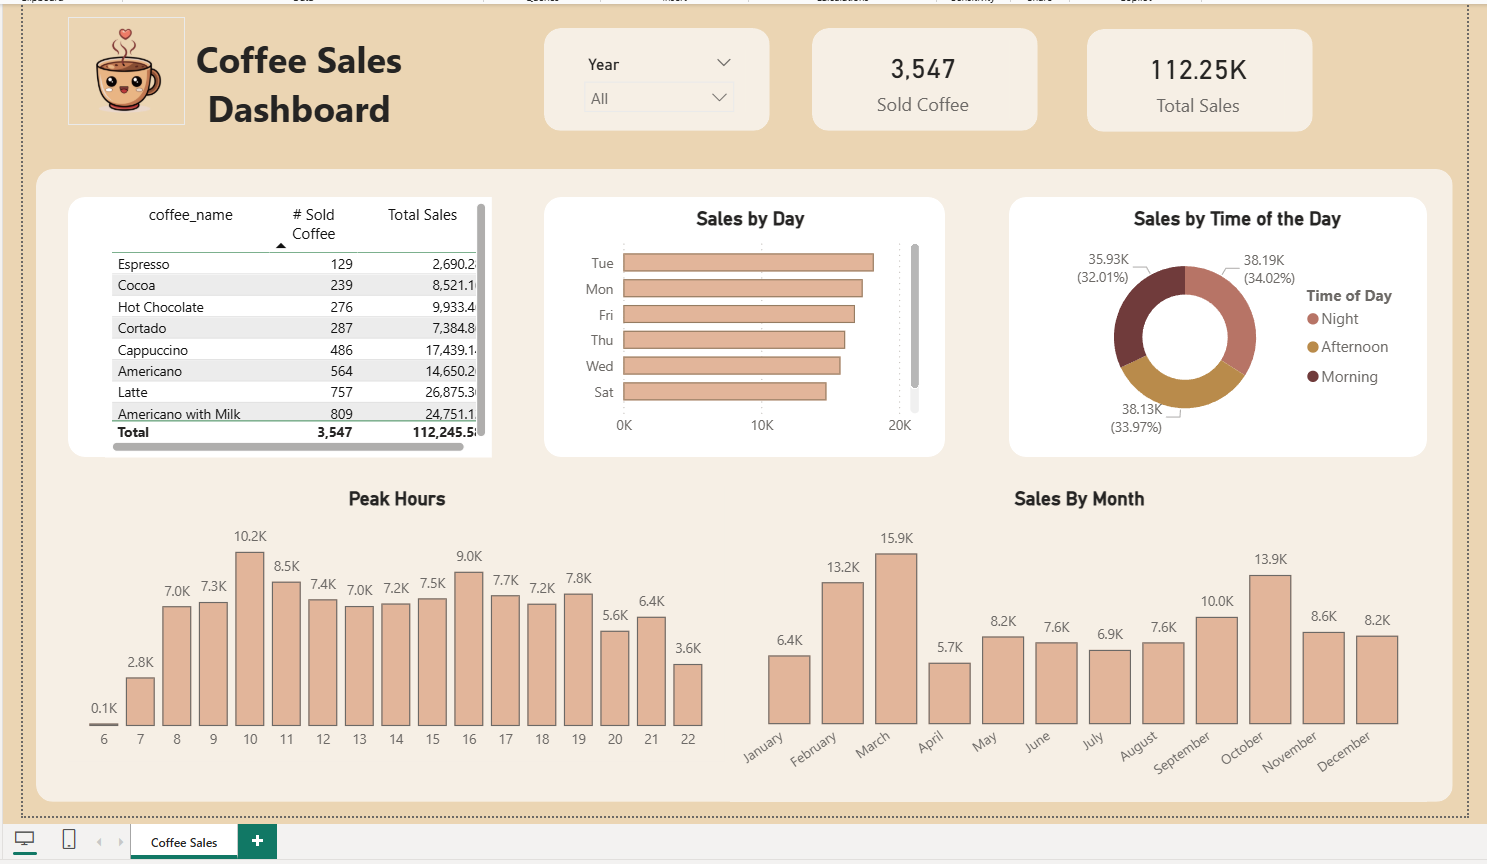

This screenshot's page, from the dashboard's own definition file:
{"tool":"powerbi","page":{"name":"Coffee Sales","canvas":[1280,720],"ordinal":0},"visuals":[{"type":"shape","box":[11.5,146.3,1256.5,561.3],"z":0},{"type":"textbox","box":[111.7,21.3,266,107.3],"z":1000},{"type":"shape","box":[39.9,171.1,369.8,230.5],"z":2000},{"type":"shape","box":[462,171,355.6,230.5],"z":3000},{"type":"shape","box":[874.3,171.1,370.6,230.5],"z":4000},{"type":"shape","box":[462,21.3,200.4,91.3],"z":5000},{"type":"shape","box":[699.6,21.3,200.4,91.3],"z":6000},{"type":"columnChart","title":"Sales By Month","fields":{"Y":["Sum(Coffe_sales.money)"],"Category":["Coffe_sales.Date.Variation.Date Hierarchy.Month"]},"box":[626.9,427.4,618,280.2],"z":7000},{"type":"clusteredColumnChart","title":"Peak Hours","fields":{"Category":["Coffe_sales.hour_of_day"],"Y":["Sum(Coffe_sales.money)"]},"box":[39.9,427.4,581.7,243.8],"z":8000},{"type":"tableEx","title":"Coffee Sales","fields":{"Values":["Coffe_sales.coffee_name","Table.Number of Sold Coffee","Sum(Coffe_sales.money)"]},"box":[72.7,171.1,343.2,230.5],"z":9000},{"type":"clusteredBarChart","title":"Sales by Day","fields":{"Y":["Sum(Coffe_sales.money)"],"Category":["Coffe_sales.Weekday"]},"box":[490.3,180,309.5,211.9],"z":10000},{"type":"donutChart","title":"Sales by Time of the Day","fields":{"Category":["Coffe_sales.Time_of_Day"],"Y":["Sum(Coffe_sales.money)"]},"box":[917.7,180,318.3,211.9],"z":11000},{"type":"slicer","fields":{"Values":["Coffe_sales.Date.Variation.Date Hierarchy.Year"]},"box":[487.7,40.8,152.5,55],"z":12000},{"type":"card","fields":{"Values":["Table.Number of Sold Coffee"]},"box":[721.8,31.9,152.5,70],"z":13000},{"type":"shape","box":[943.7,22.4,200.4,91.3],"z":14000},{"type":"card","fields":{"Values":["Sum(Coffe_sales.money)"]},"box":[965.9,33.1,152.5,70],"z":15000},{"type":"image","box":[39.9,11.5,103.7,95.8],"z":16000}]}

Visuals, with their boxes on the page's 1280x720 design canvas (x1, y1, x2, y2). These are canvas units, not pixel positions in the 1487x864 screenshot, which may show the page scaled, cropped or inside an application window:
shape: pyautogui.locateOnScreen(12, 146, 1268, 708)
textbox: pyautogui.locateOnScreen(112, 21, 378, 129)
shape: pyautogui.locateOnScreen(40, 171, 410, 402)
shape: pyautogui.locateOnScreen(462, 171, 818, 402)
shape: pyautogui.locateOnScreen(874, 171, 1245, 402)
shape: pyautogui.locateOnScreen(462, 21, 662, 113)
shape: pyautogui.locateOnScreen(700, 21, 900, 113)
"Sales By Month" columnChart: pyautogui.locateOnScreen(627, 427, 1245, 708)
"Peak Hours" clusteredColumnChart: pyautogui.locateOnScreen(40, 427, 622, 671)
"Coffee Sales" tableEx: pyautogui.locateOnScreen(73, 171, 416, 402)
"Sales by Day" clusteredBarChart: pyautogui.locateOnScreen(490, 180, 800, 392)
"Sales by Time of the Day" donutChart: pyautogui.locateOnScreen(918, 180, 1236, 392)
slicer - Coffe_sales.Date.Variation.Date Hierarchy.Year: pyautogui.locateOnScreen(488, 41, 640, 96)
card - Table.Number of Sold Coffee: pyautogui.locateOnScreen(722, 32, 874, 102)
shape: pyautogui.locateOnScreen(944, 22, 1144, 114)
card - Sum(Coffe_sales.money): pyautogui.locateOnScreen(966, 33, 1118, 103)
image: pyautogui.locateOnScreen(40, 12, 144, 107)
